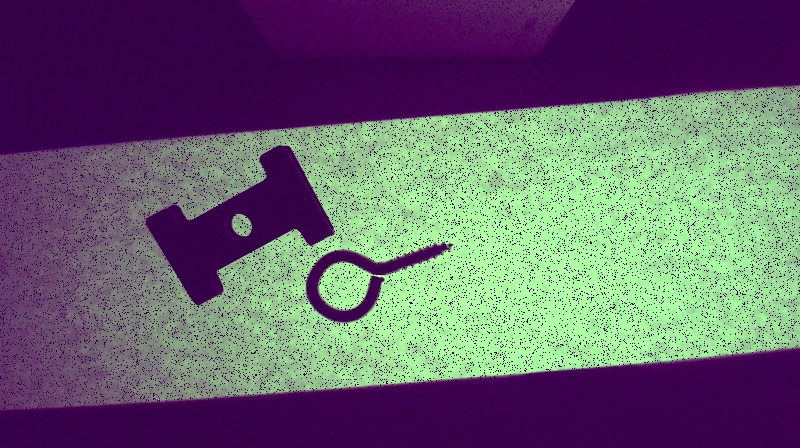O001: (305, 241, 455, 325)
O002: (145, 146, 333, 307)
